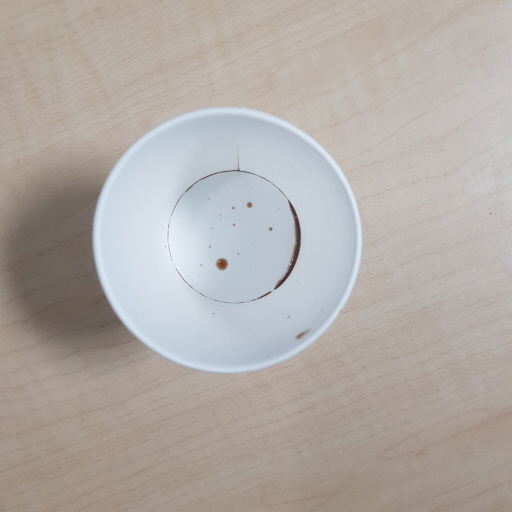Paper_1: (87, 107, 367, 373)
